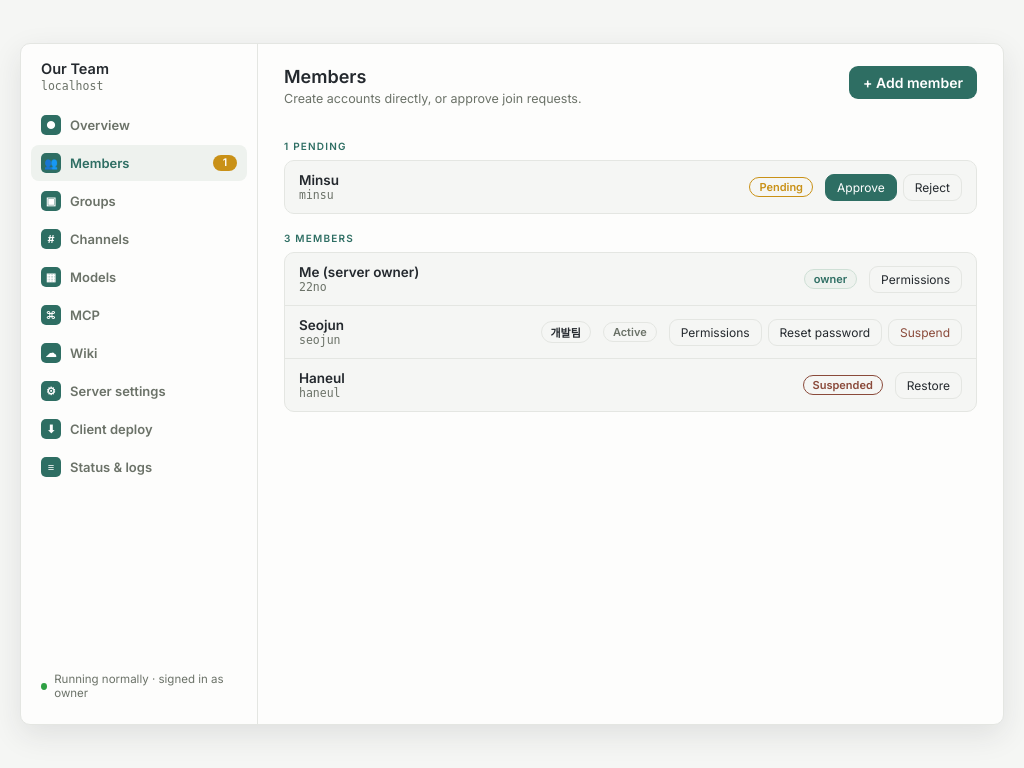
Scenario: 비번 리셋 → POST reset-password, 반환된 임시 비번을 인라인으로 표시
Expected: the text "Seojun" is shown, [299,317,344,333]
Click the button "Reset password" at (825, 332), box [768,318,882,346]
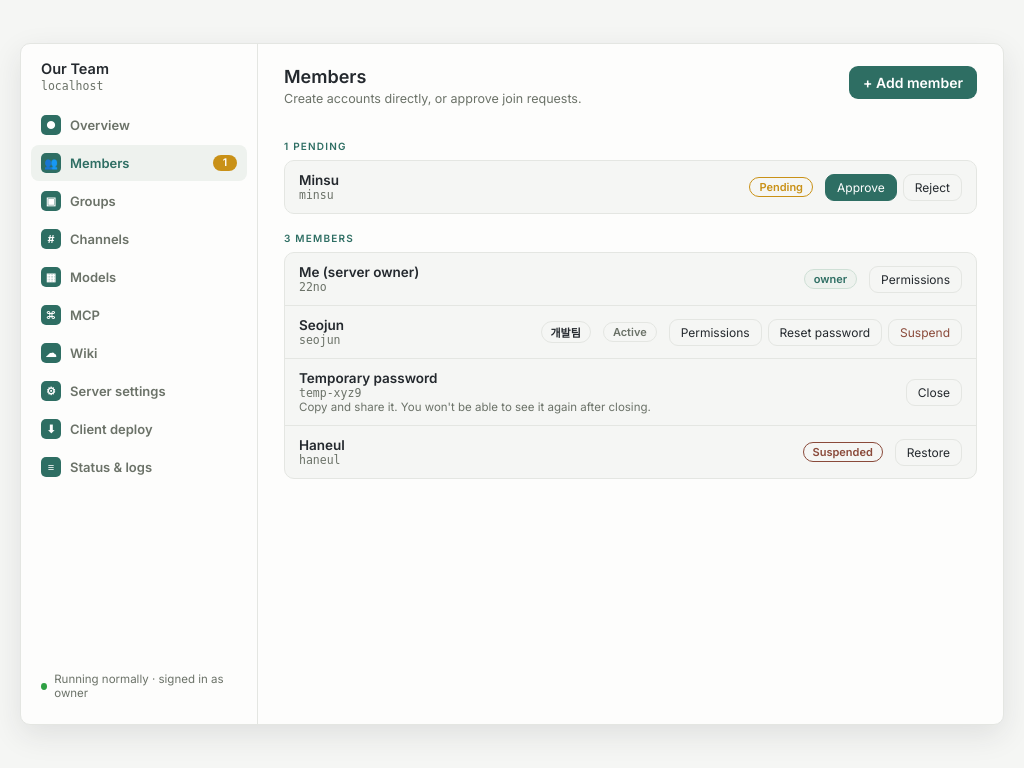
Result: the text "temp-xyz9" is shown at [299,386,361,400]
